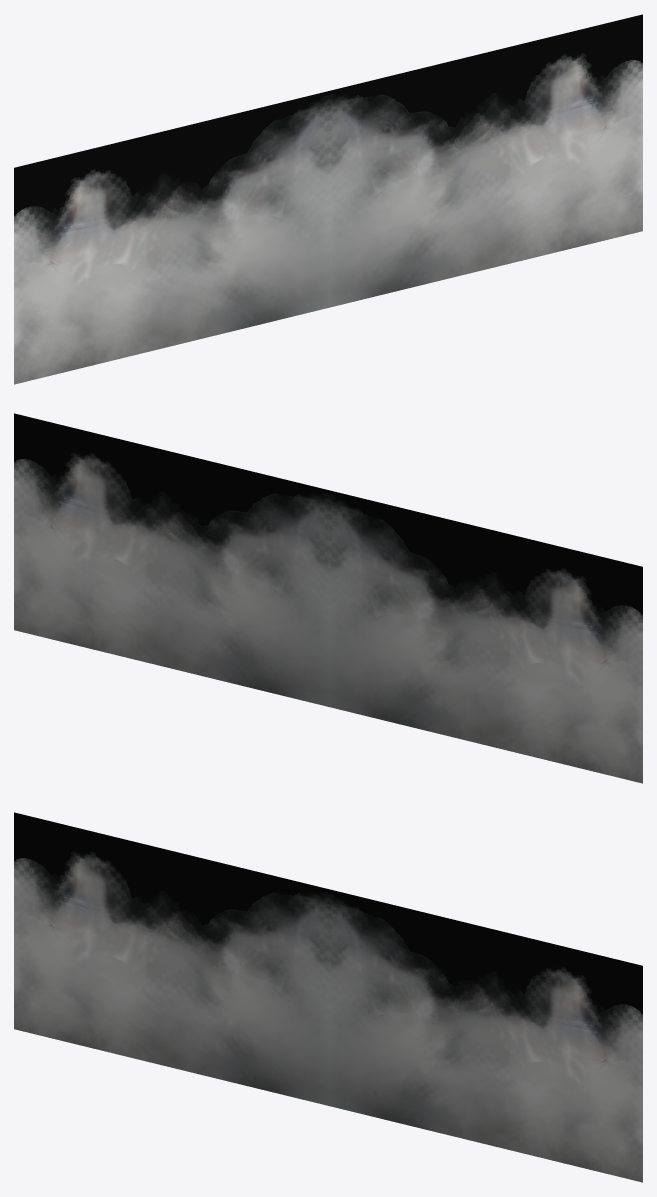
3 views of the same model, one above another, from view 1: azimuth 30°, elevation 25°; view 2: azimuth 150°, elevation 25°; view 3: azimuth 330°, elevation 25° (orthographic).
Parts seen in each view (by area): view 1: 平面 (×2); view 2: 平面 (×2); view 3: 平面 (×2).
Part boxes in pixels (x1,y1,x2,y2): 平面 (×2): (14, 14, 642, 384); 平面 (×2): (14, 413, 642, 783); 平面 (×2): (14, 812, 642, 1182).
Bounding box in the file's own units: 6.55 × 2.16 × 2.88e-07.
2 materials, 2 textured.
